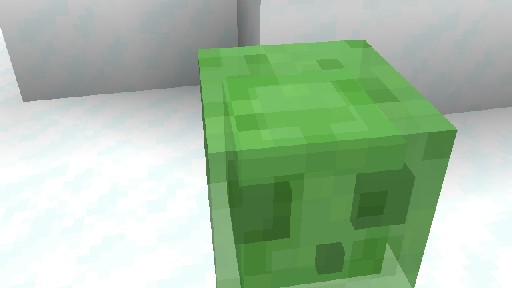slime: (197, 38, 457, 288)
